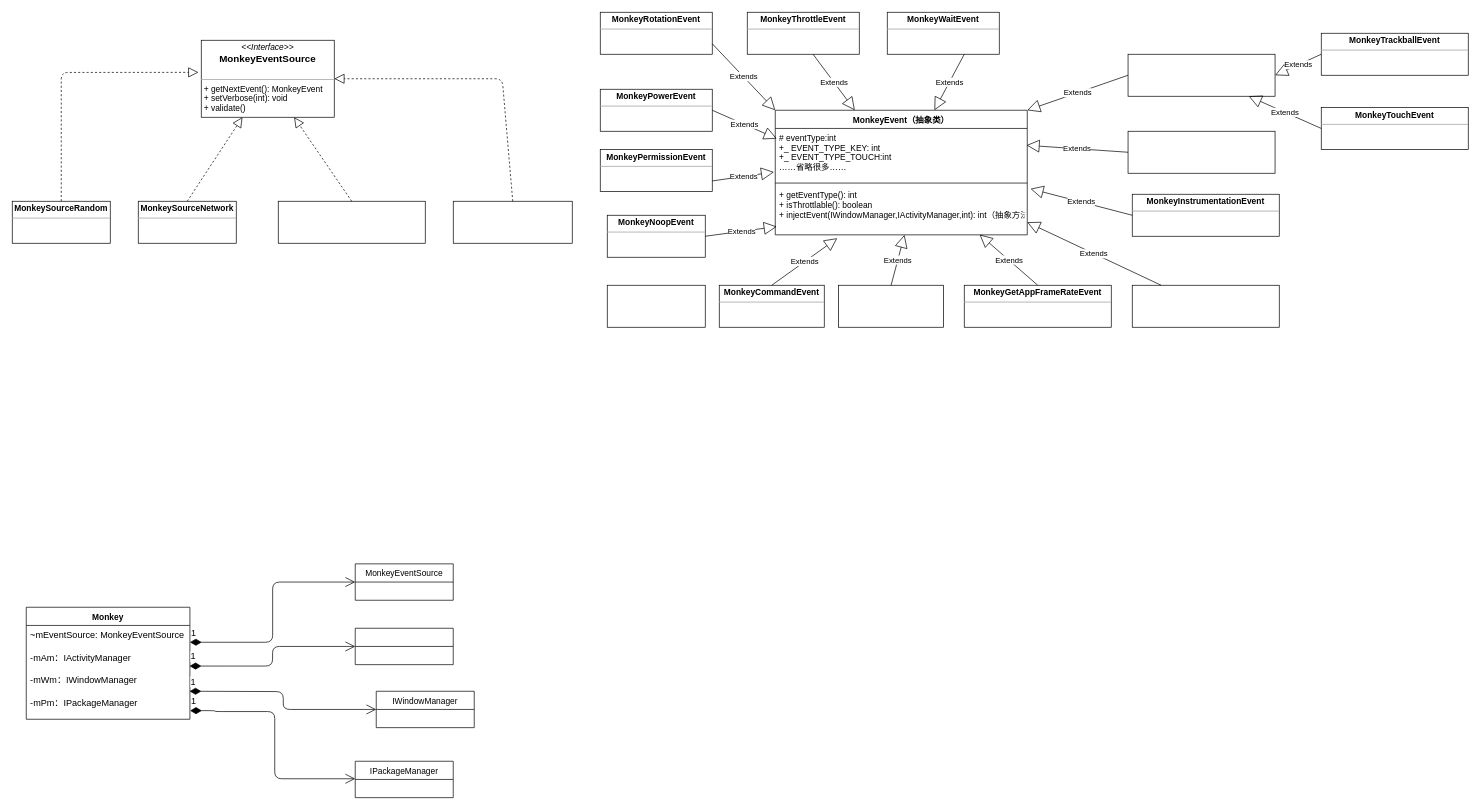
The diagram is 1481 pixels wide and 810 high, and some of its shapes have lost their labels. Each missing label, with the centre of its shape:
"IActivityManager" belongs at [404,646].
"MonkeyActivityEvent" belongs at [656,306].
"MonkeyFlipEvent" belongs at [891,306].
"MonkeyGetFrameRateEvent" belongs at [1205,306].
"MonkeyKeyEvent" belongs at [1201,152].
"MonkeyMotionEvent" belongs at [1201,75].
"MonkeySourceRandomScript" belongs at [351,222].
"MonkeySourceScript" belongs at [512,222].
